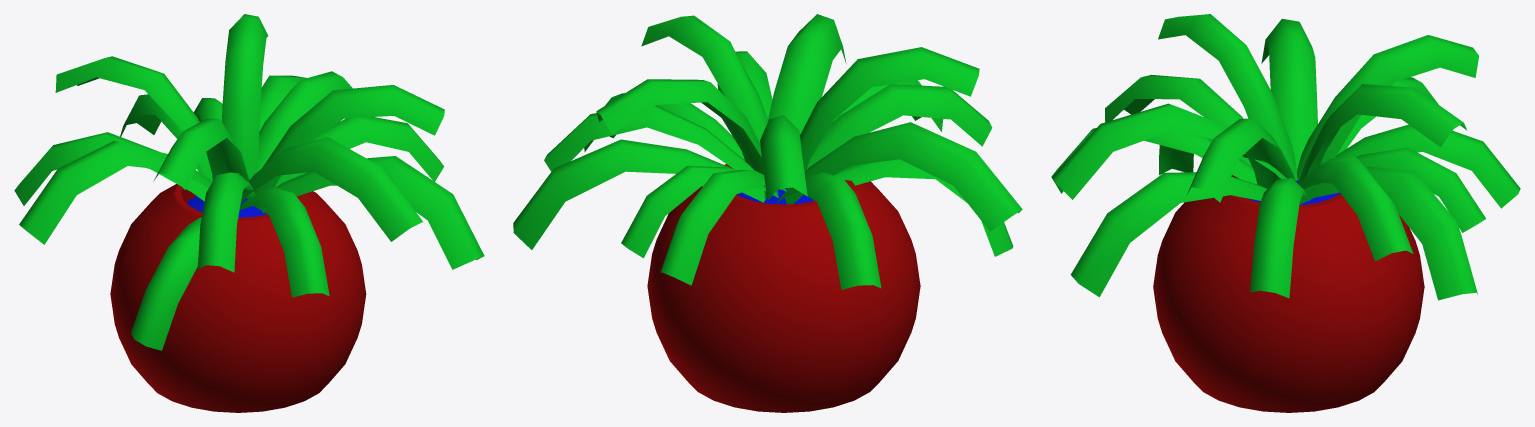
The model's file is flower_pot.FBX.
The picture shows the model from 3 angles, left to right: view 1: azimuth 30°, elevation 25°; view 2: azimuth 150°, elevation 25°; view 3: azimuth 270°, elevation 25°; orthographic projection. The views are drawn at different scales.
Parts seen in each view (by area): view 1: flower_pot_low; view 2: flower_pot_low; view 3: flower_pot_low.
Part boxes in pixels (x1,y1,x2,y2): flower_pot_low: [14, 14, 484, 412]; flower_pot_low: [513, 14, 1022, 412]; flower_pot_low: [1051, 14, 1520, 412].
Bounding box in the file's own units: 37.35 × 25.7 × 34.59.
